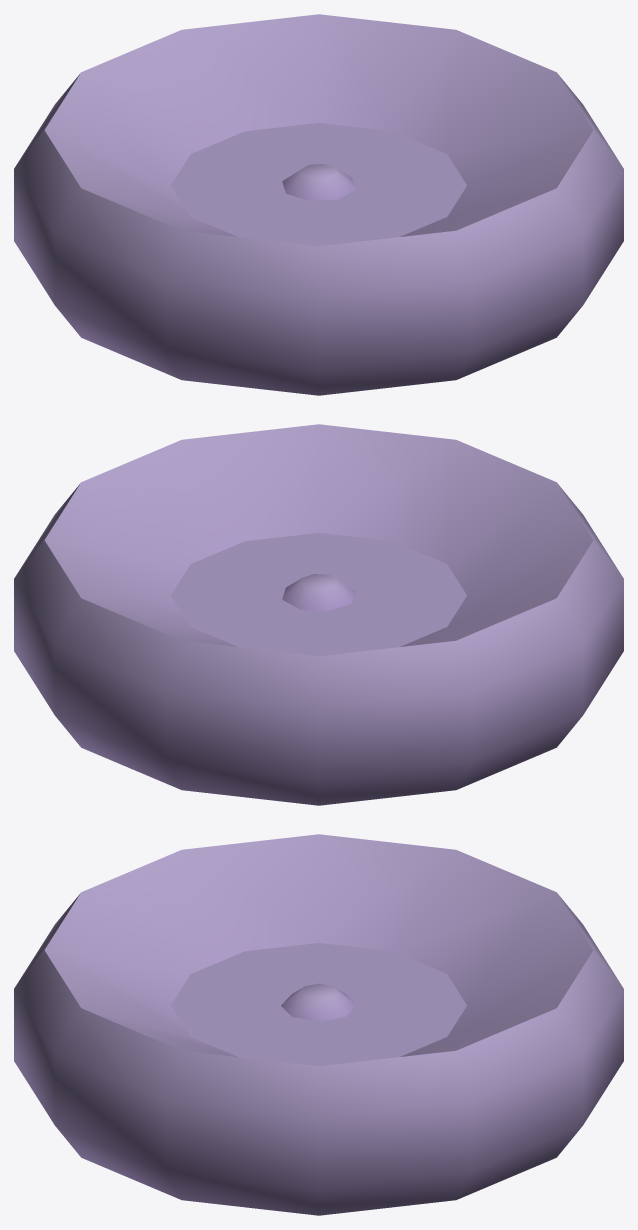
Rendered from cushion-indent-round.glb.
The picture shows the model from 3 angles, top to bottom: view 1: azimuth 30°, elevation 25°; view 2: azimuth 150°, elevation 25°; view 3: azimuth 270°, elevation 25°; orthographic projection.
Parts seen in each view (by area): view 1: cushion-indent-round; view 2: cushion-indent-round; view 3: cushion-indent-round.
Boxes of the visible parts, box(x1,y1,x2,y2) form: cushion-indent-round: box(14, 14, 623, 395); cushion-indent-round: box(14, 424, 623, 805); cushion-indent-round: box(14, 834, 623, 1215).
Size of the model in its own units: 0.5 by 0.1352 by 0.5.
